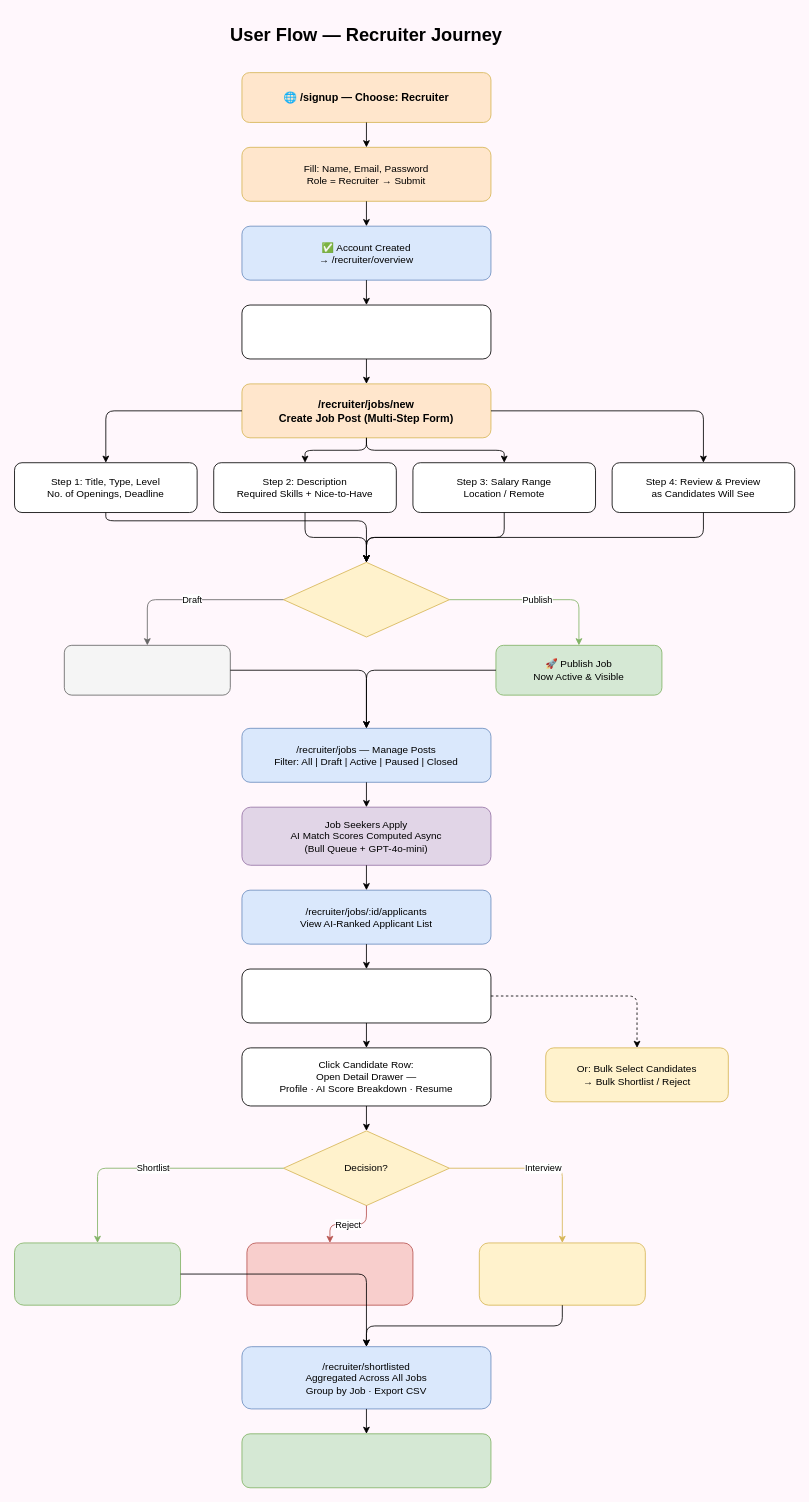
Some shapes in this 809 by 1502 pixel diagram are drawn without their labels. Here are the shapes that lost their labels. From the top down, the centre of each, then its label:
At (x=366, y=331): "Set Up Company Profile: Name · Logo · Industry · Size · Website".
At (x=366, y=599): "Action?".
At (x=146, y=669): "💾 Save as Draft Editable Later".
At (x=366, y=995): "Filter: Status Tabs + Min Match Score Sort: Highest Match | Newest | Name A-Z".
At (x=97, y=1273): "✅ Shortlist Status → Shortlisted 📧 Email Candidate".
At (x=329, y=1273): "❌ Reject Status → Rejected 📧 Email Candidate".
At (x=561, y=1273): "🗓️ Interview Status → Interview 📧 Email Candidate".
At (x=366, y=1460): "🏆 Move to Interview or Make Offer".
